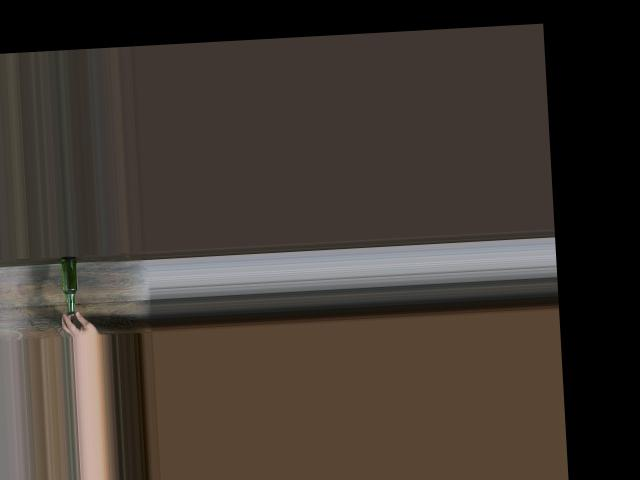beer: (60, 256, 79, 316)
